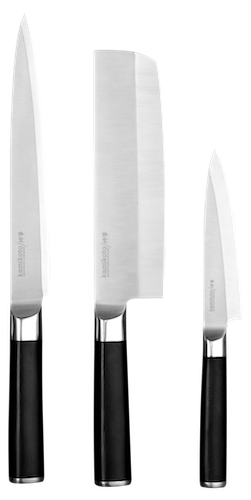knife: (10, 13, 50, 484), (201, 151, 240, 485)
